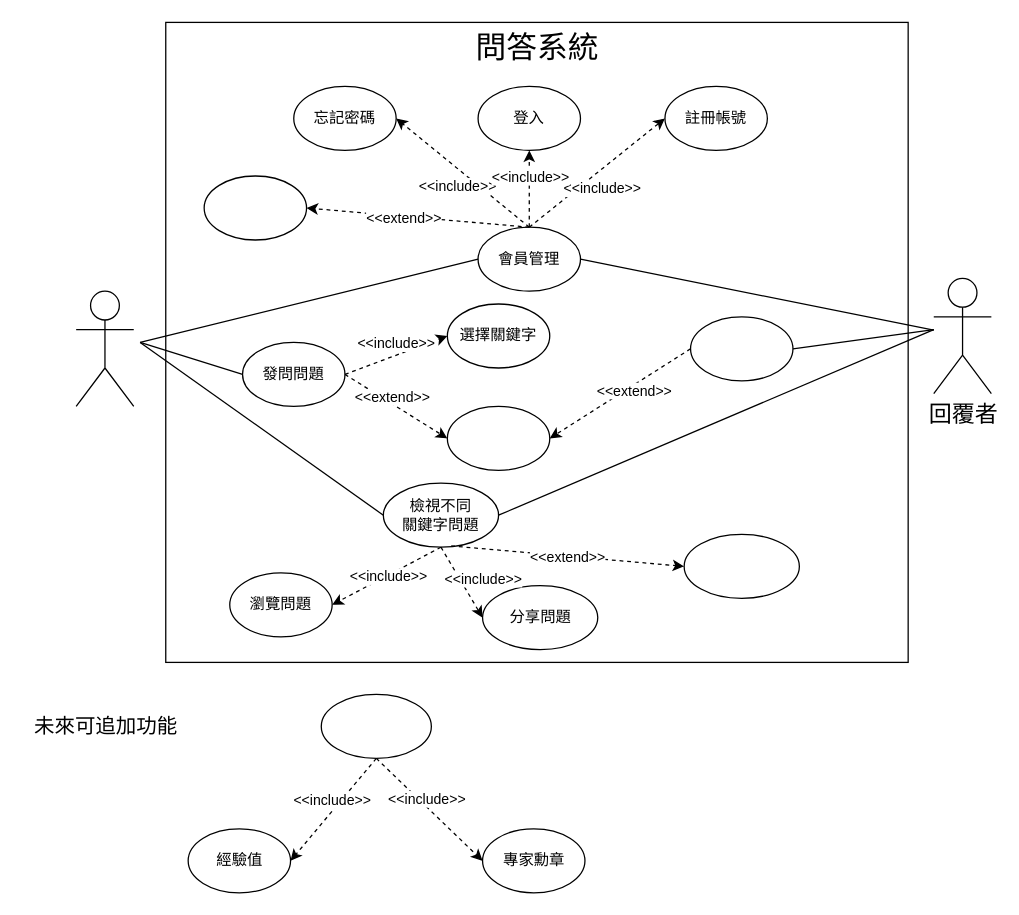
Some shapes in this 1019 by 915 pixel diagram are drawn without their labels. Each missing label, with the centre of its shape:
OAuth: [255,207]
依據問答 瀏覽次數排序: [741,565]
回覆問題: [741,348]
成就系統管理: [375,725]
發問者: [104,348]
評價: [498,437]
